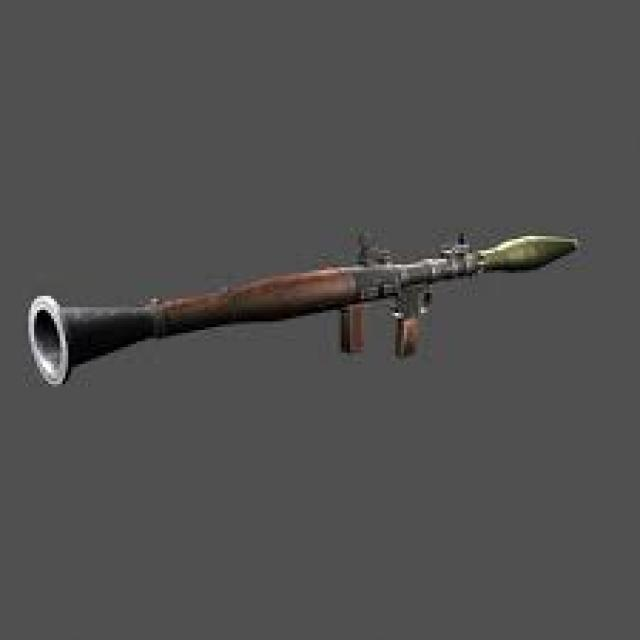Gun: (14, 222, 604, 405)
